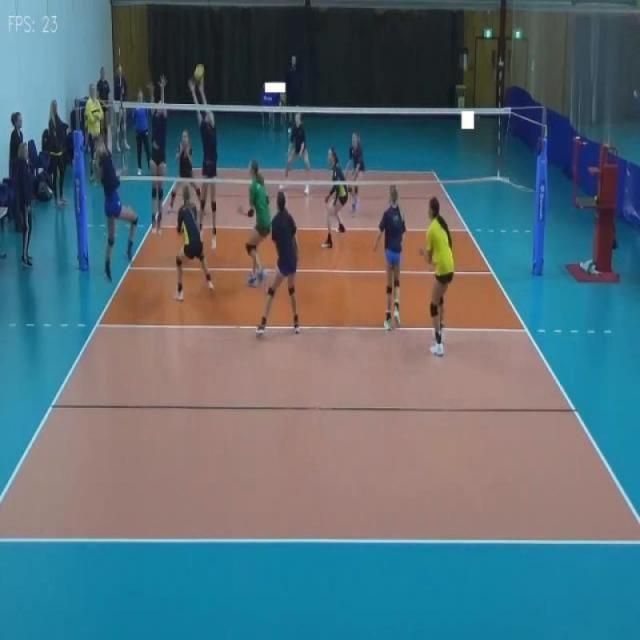volleyball: (193, 62, 204, 84)
